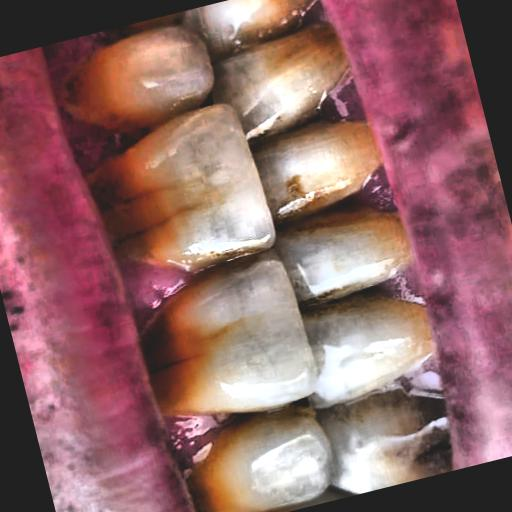Calculus: (31, 0, 482, 512)
